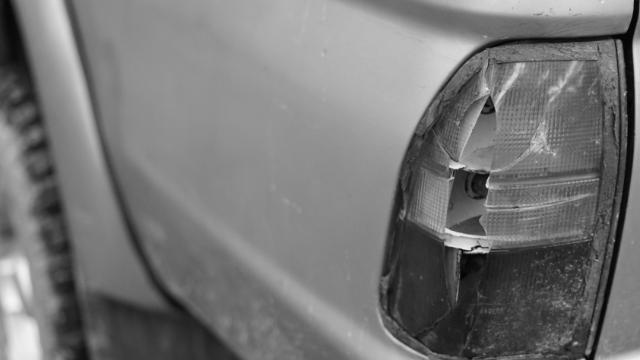Light: (370, 34, 627, 360)
